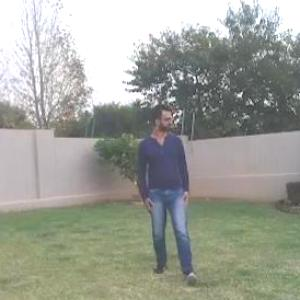follow: (139, 92, 193, 275)
